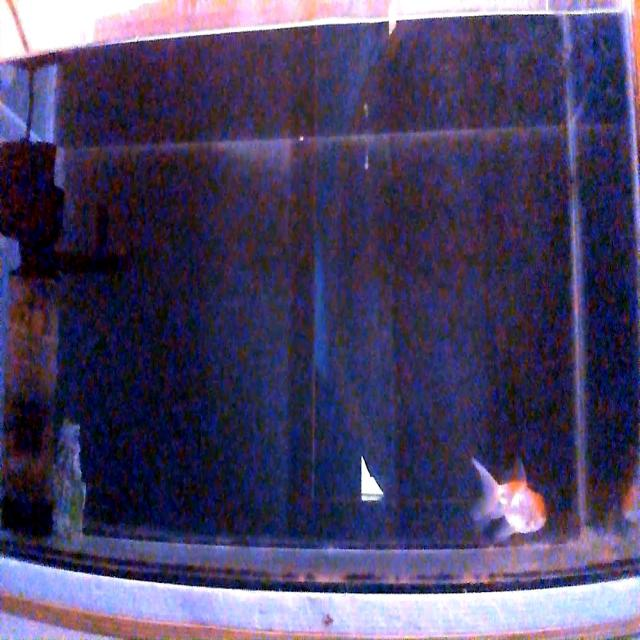fish: (471, 454, 547, 540), (620, 474, 639, 519)
